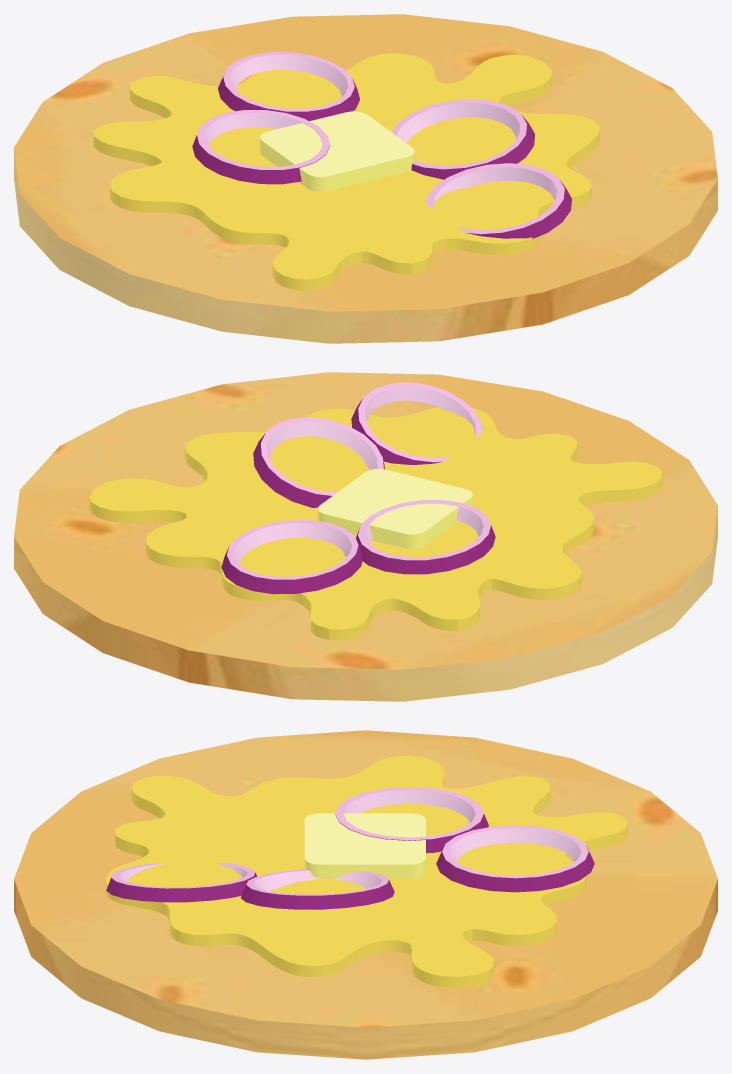
Rendered from taco_Cebolla_Salsa.glb.
3 views of the same model, one above another, from view 1: azimuth 30°, elevation 25°; view 2: azimuth 150°, elevation 25°; view 3: azimuth 270°, elevation 25° (orthographic).
Parts seen in each view (by area): view 1: tortilla.002, Melted_Butter_Butter_0, Onion_Slice_Onion_0, Onion_Slice_Onion_0.001; view 2: tortilla.002, Melted_Butter_Butter_0, Onion_Slice_Onion_0, Onion_Slice_Onion_0.001; view 3: tortilla.002, Melted_Butter_Butter_0, Onion_Slice_Onion_0, Onion_Slice_Onion_0.001.
Boxes of the visible parts, box(x1,y1,x2,y2) form: tortilla.002: box(14, 14, 717, 343); Melted_Butter_Butter_0: box(93, 53, 599, 290); Onion_Slice_Onion_0: box(192, 52, 359, 184); Onion_Slice_Onion_0.001: box(391, 99, 571, 238); tortilla.002: box(14, 372, 717, 701); Melted_Butter_Butter_0: box(89, 407, 662, 640); Onion_Slice_Onion_0: box(221, 500, 495, 594); Onion_Slice_Onion_0.001: box(253, 382, 482, 507); tortilla.002: box(14, 730, 717, 1059); Melted_Butter_Butter_0: box(105, 755, 627, 988); Onion_Slice_Onion_0: box(335, 786, 594, 892); Onion_Slice_Onion_0.001: box(106, 863, 394, 909).
Bounding box in the file's own units: 0.2118 × 0.0248 × 0.2118.
3 materials, 3 textured.
